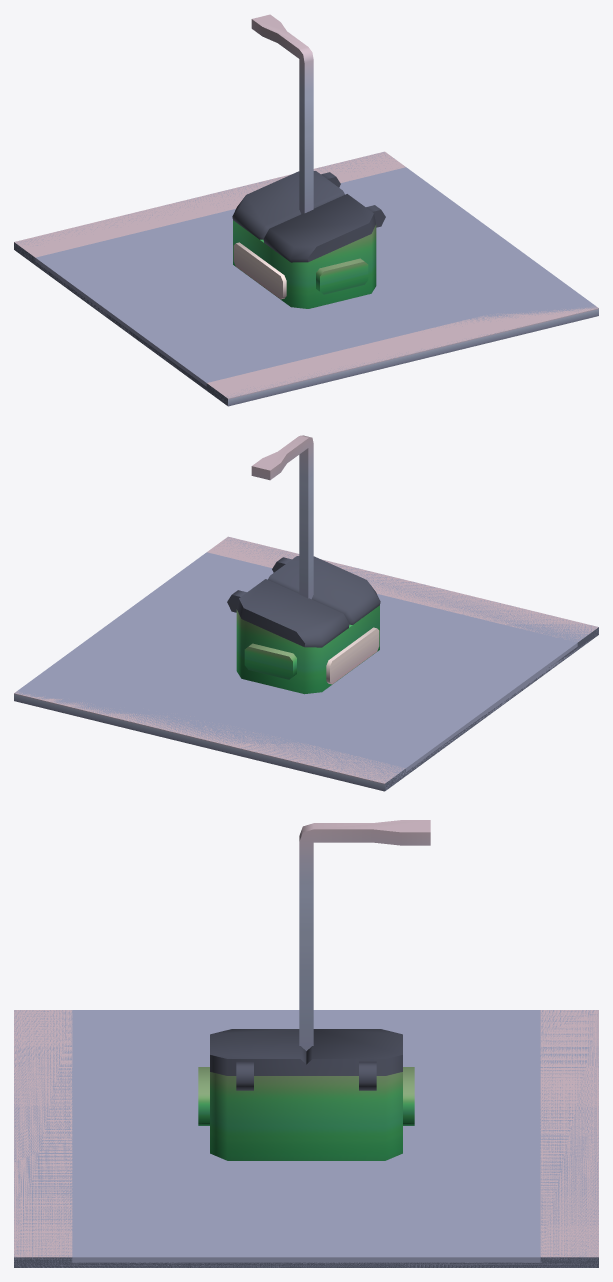
The model's file is city.glb.
3 views of the same model, one above another, from view 1: azimuth 30°, elevation 25°; view 2: azimuth 150°, elevation 25°; view 3: azimuth 270°, elevation 25° (orthographic). The views are drawn at different scales.
Visible parts, largest first — view 1: tile-low, road-straight, dumpster, lid-right, light-square, lid-left; view 2: tile-low, road-straight, dumpster, lid-left, lid-right, light-square; view 3: tile-low, road-straight, dumpster, light-square, lid-left, lid-right.
Boxes of the visible parts, bbox=[...] form: tile-low: bbox=[14, 152, 598, 405]; road-straight: bbox=[14, 151, 598, 406]; dumpster: bbox=[233, 172, 385, 308]; lid-right: bbox=[263, 194, 375, 262]; light-square: bbox=[251, 14, 313, 213]; lid-left: bbox=[232, 171, 344, 239]; tile-low: bbox=[15, 537, 598, 790]; road-straight: bbox=[14, 536, 598, 791]; dumpster: bbox=[227, 557, 379, 694]; lid-left: bbox=[237, 579, 349, 647]; lid-right: bbox=[268, 556, 380, 624]; light-square: bbox=[251, 435, 313, 599]; tile-low: bbox=[14, 1010, 598, 1267]; road-straight: bbox=[14, 1010, 598, 1267]; dumpster: bbox=[198, 1061, 414, 1160]; light-square: bbox=[299, 820, 430, 1050]; lid-left: bbox=[306, 1029, 402, 1075]; lid-right: bbox=[210, 1029, 306, 1075].
Bounding box in the file's own units: 1 × 0.6 × 1.
Materials: 1 (1 with a texture image).
